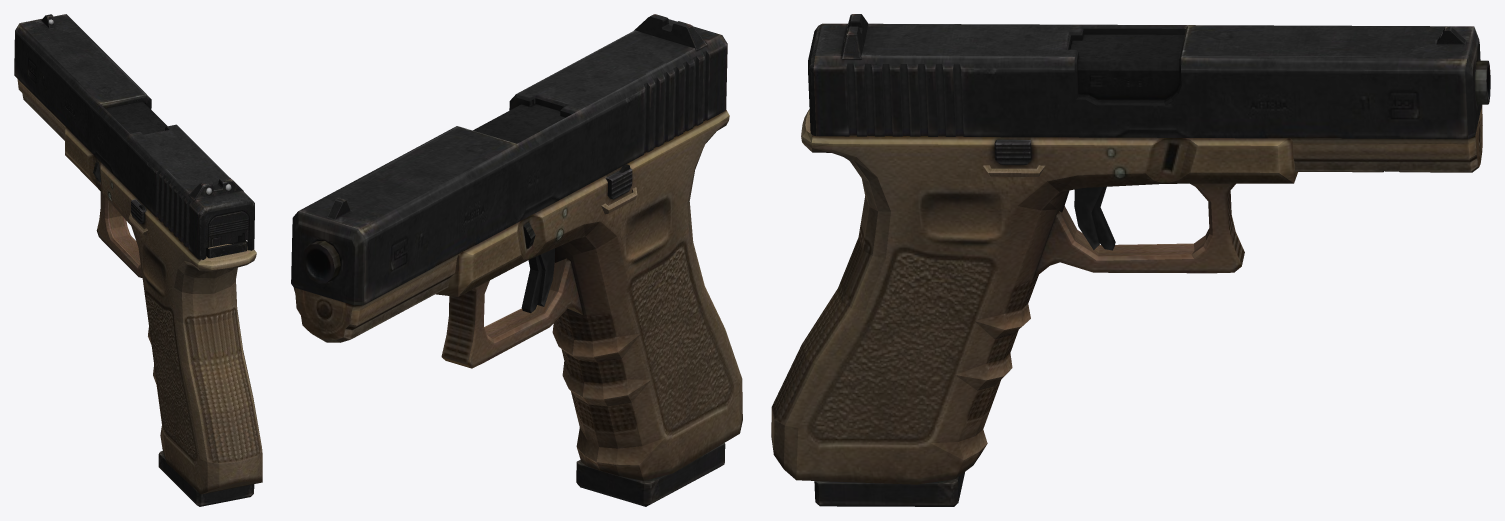
3 renders of one model, left to right at view 1: azimuth 30°, elevation 25°; view 2: azimuth 150°, elevation 25°; view 3: azimuth 270°, elevation 25°, orthographic. The views are drawn at different scales.
Bounding box in the file's own units: 0.0441 × 0.1487 × 0.2.
1 material, 1 textured.
